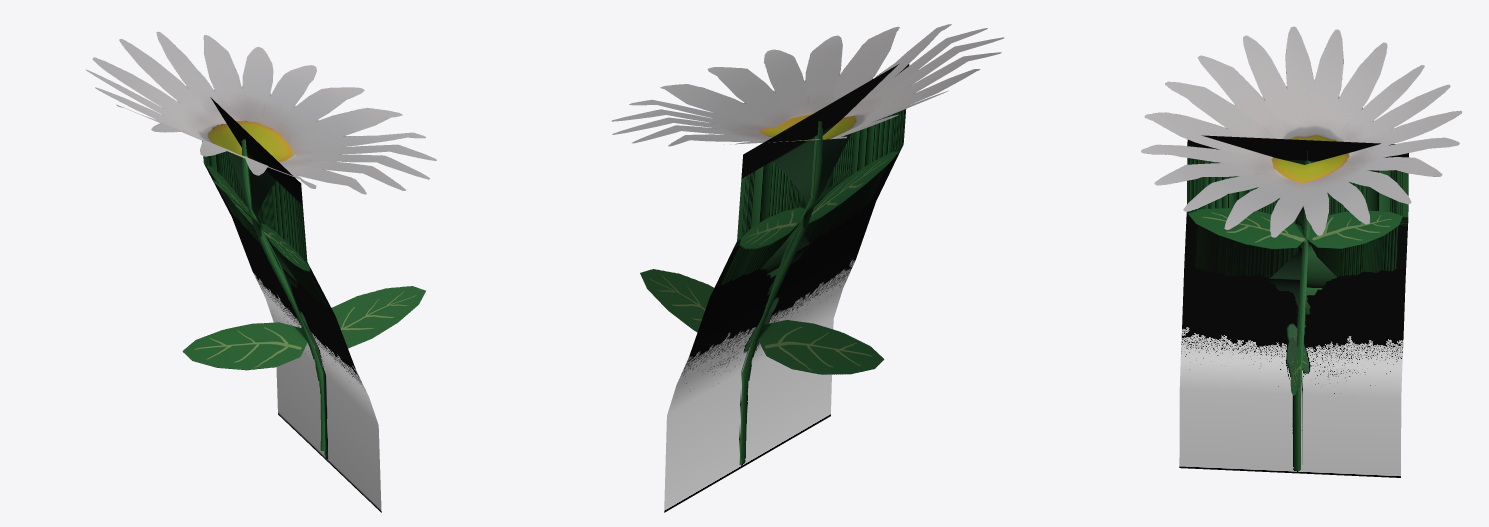
Rendered from flower2 low.fbx.
The picture shows the model from 3 angles, left to right: view 1: azimuth 30°, elevation 25°; view 2: azimuth 150°, elevation 25°; view 3: azimuth 270°, elevation 25°; orthographic projection. The views are drawn at different scales.
Parts seen in each view (by area): view 1: Flower_2; view 2: Flower_2; view 3: Flower_2.
Boxes of the visible parts, bbox=[...] form: Flower_2: bbox=[86, 31, 436, 512]; Flower_2: bbox=[611, 24, 1004, 512]; Flower_2: bbox=[1141, 26, 1461, 477].
Size of the model in its own units: 53.06 by 63.62 by 54.1.
